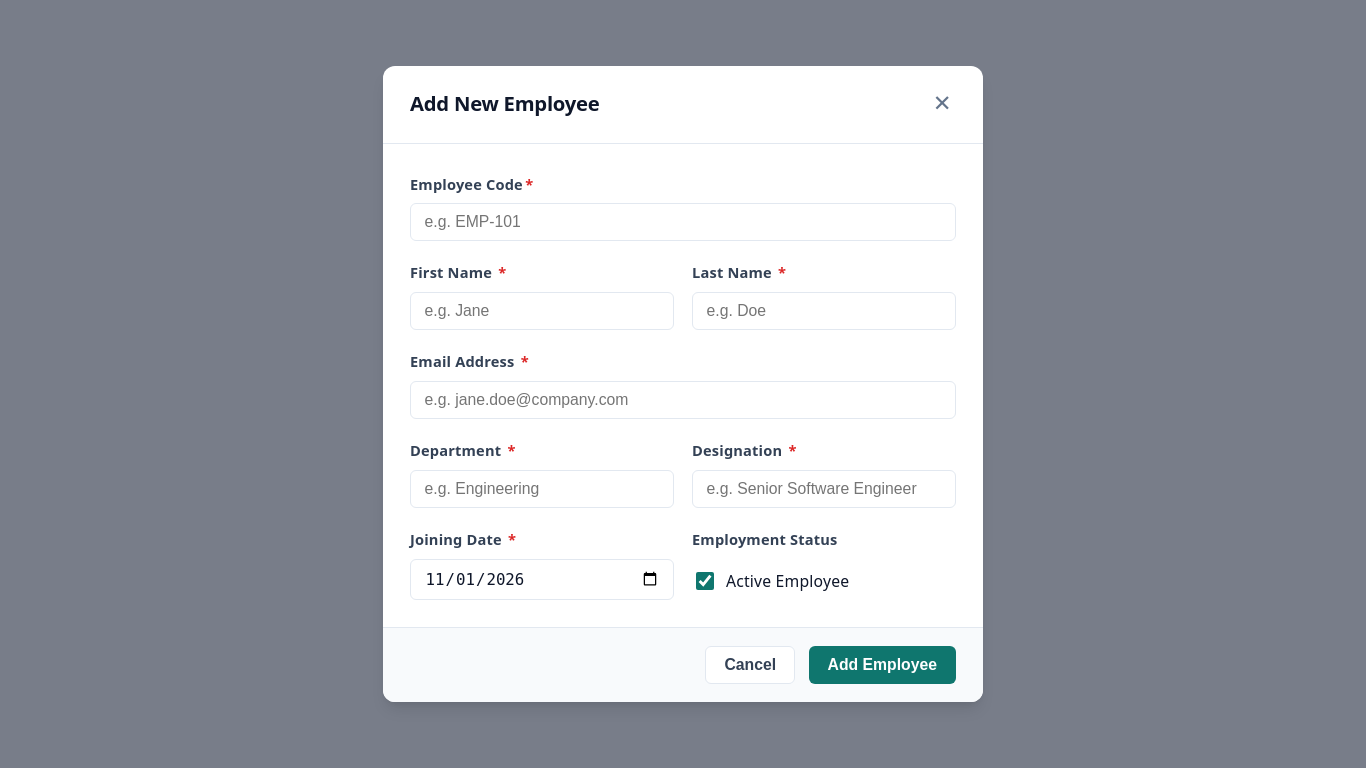
Test: EmployeeModal component › Create Mode › validates required fields before submitting in create mode
Click the button "Add Employee".
click(882, 665)  # box x1=809 y1=646 x2=956 y2=684
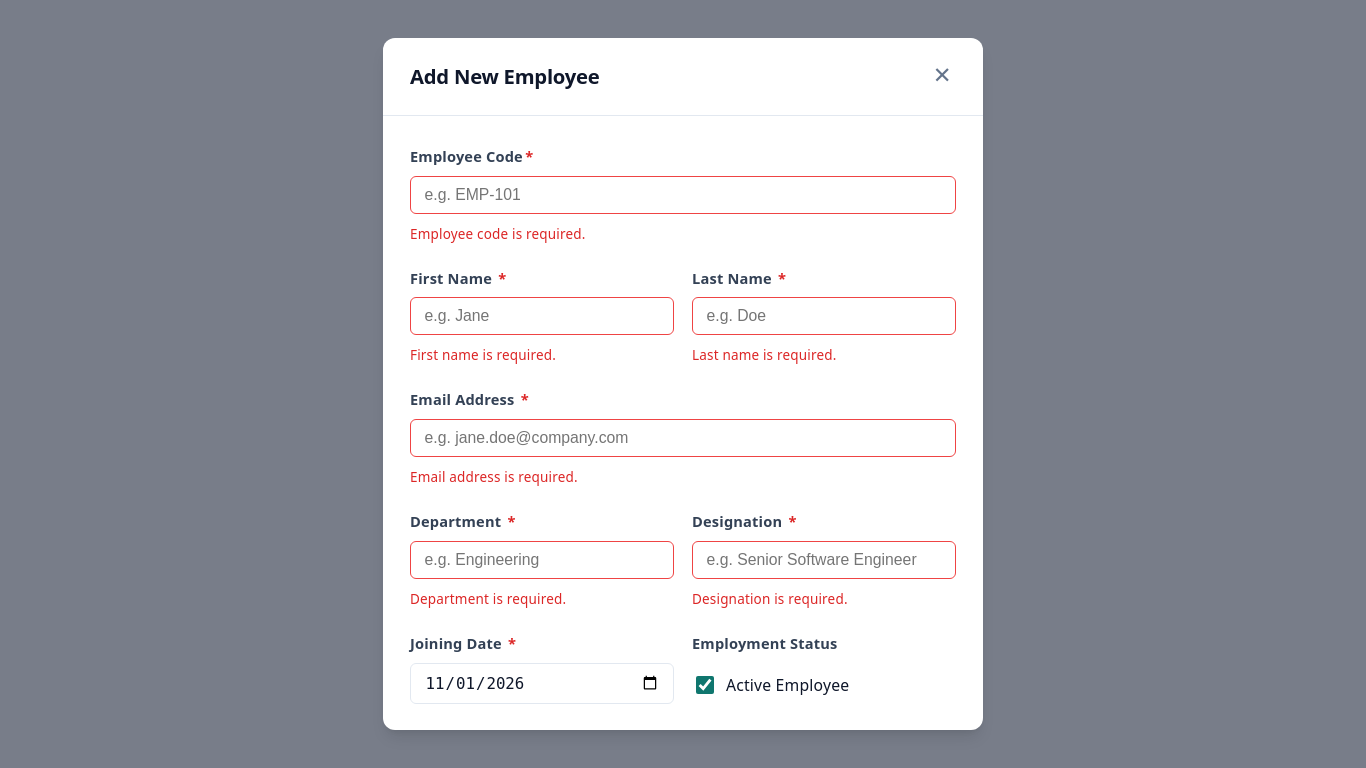
Check: the text "Employee code is required." is shown, box x1=410 y1=224 x2=586 y2=242
Check: the text "First name is required." is shown, box x1=410 y1=346 x2=556 y2=364
Check: the text "Last name is required." is shown, box x1=692 y1=346 x2=836 y2=364
